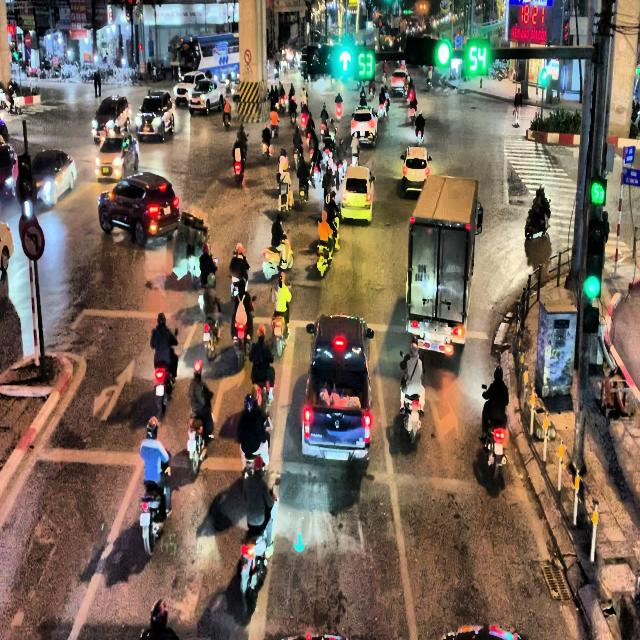lisence_plate: (320, 447, 352, 462), (416, 262, 430, 285), (426, 332, 446, 343), (162, 206, 172, 215), (352, 196, 361, 204), (413, 171, 419, 180)
